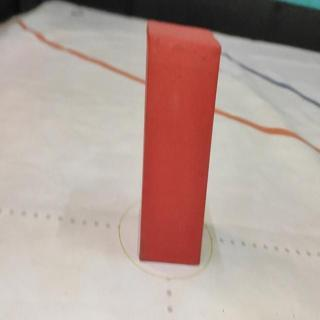redbox: (137, 19, 221, 266)
